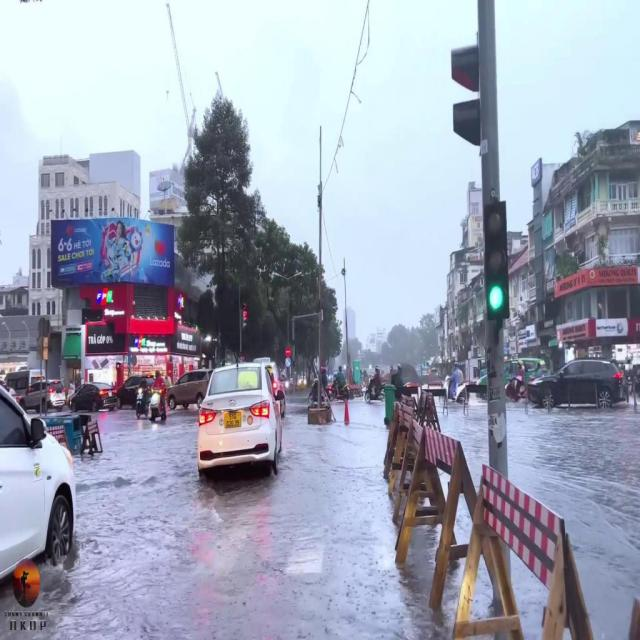cam_xe_di_nguoc_chieu: (285, 346, 291, 357)
huong_phai_di_vuot_chuong_ngai_vat_phai: (286, 358, 291, 367)
